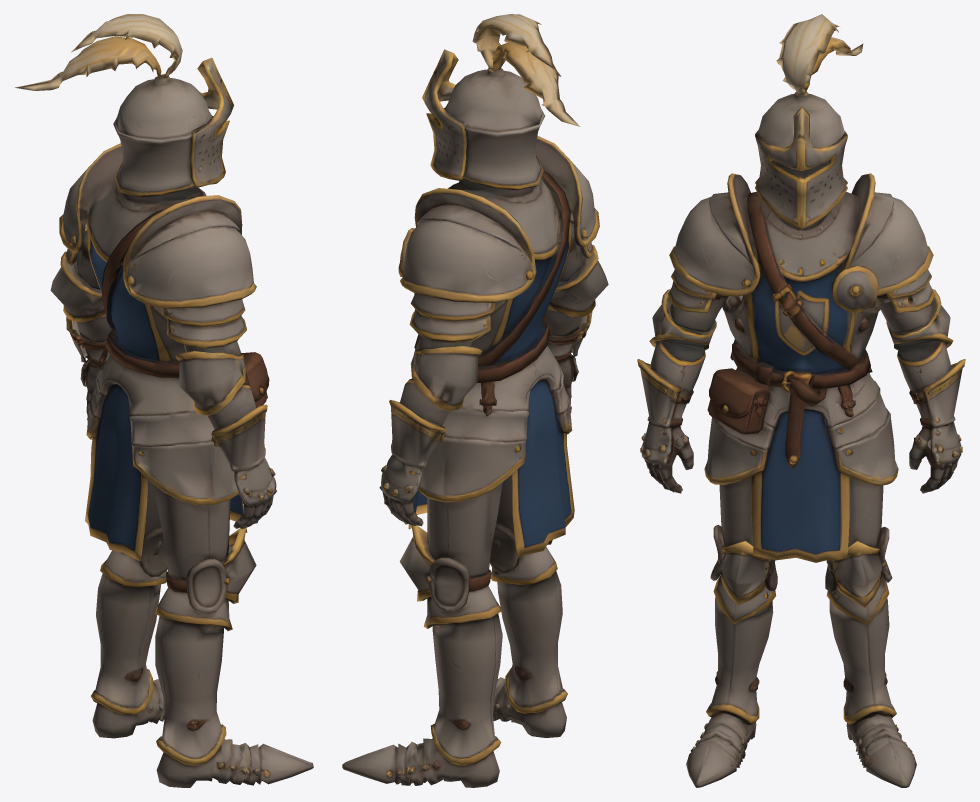
Rendered from herald_tripo.glb.
The picture shows the model from 3 angles, left to right: view 1: azimuth 30°, elevation 25°; view 2: azimuth 150°, elevation 25°; view 3: azimuth 270°, elevation 25°; orthographic projection. The views are drawn at different scales.
Parts seen in each view (by area): view 1: tripo_node_07d5530c-573e-4de1-bb1c-510af9405784; view 2: tripo_node_07d5530c-573e-4de1-bb1c-510af9405784; view 3: tripo_node_07d5530c-573e-4de1-bb1c-510af9405784.
Boxes of the visible parts, x1=… form: tripo_node_07d5530c-573e-4de1-bb1c-510af9405784: x1=15, y1=14, x2=313, y2=787; tripo_node_07d5530c-573e-4de1-bb1c-510af9405784: x1=342, y1=14, x2=608, y2=787; tripo_node_07d5530c-573e-4de1-bb1c-510af9405784: x1=637, y1=14, x2=965, y2=787.
Bounding box in the file's own units: 0.3027 × 0.998 × 0.4199.
Materials: 1 (1 with a texture image).
